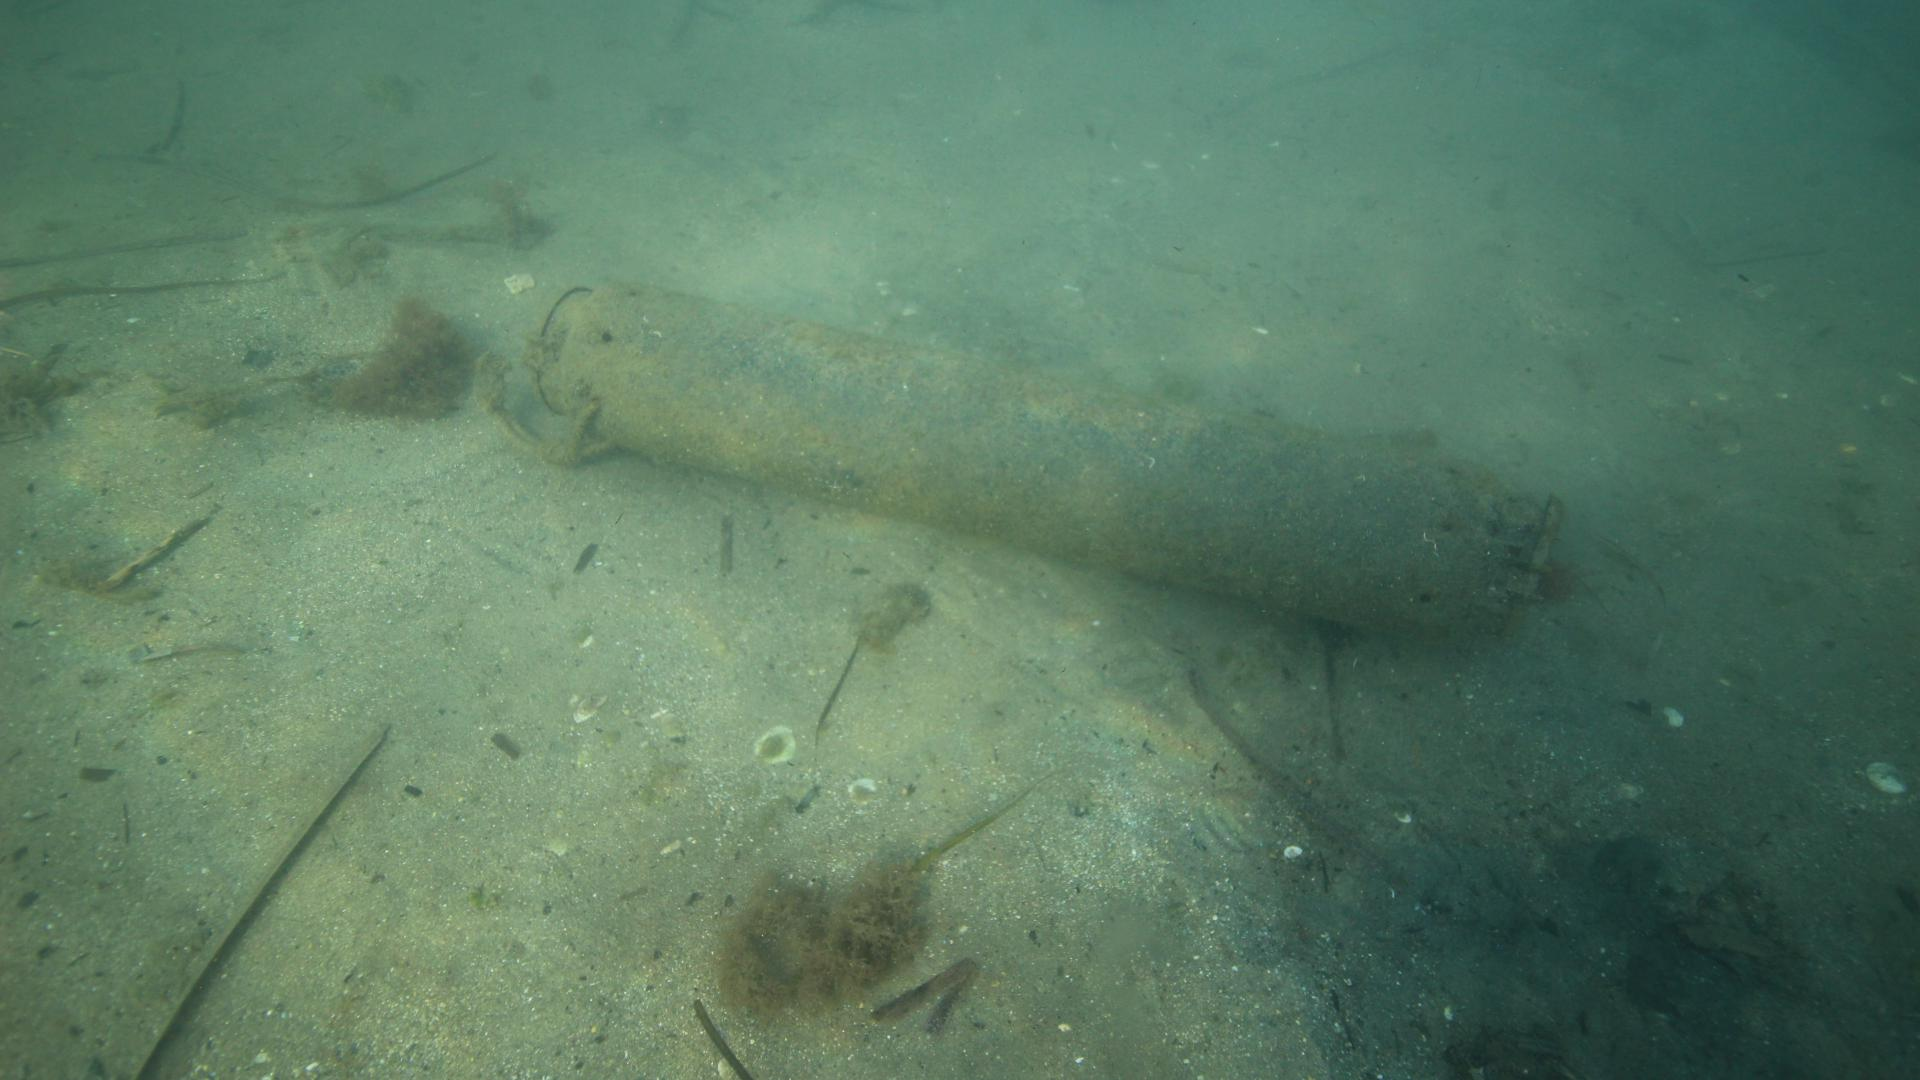bundle of ropes: (487, 396, 618, 469)
eel fish trap: (527, 273, 1567, 645)
